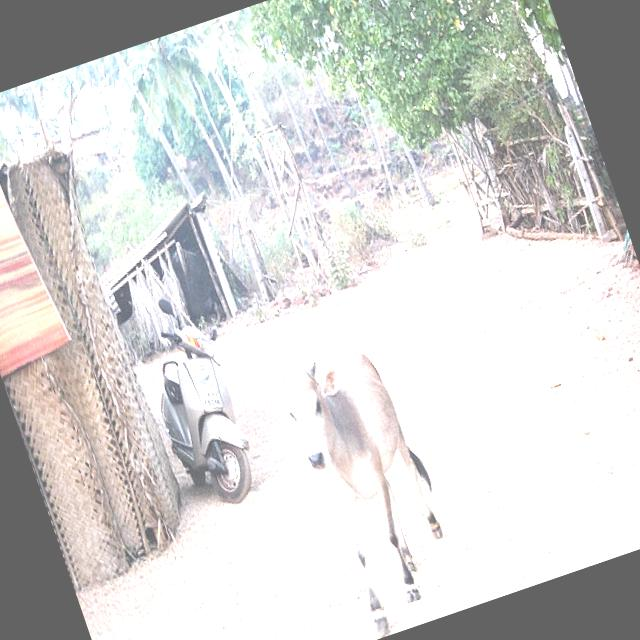Vehicle: (120, 286, 273, 522)
